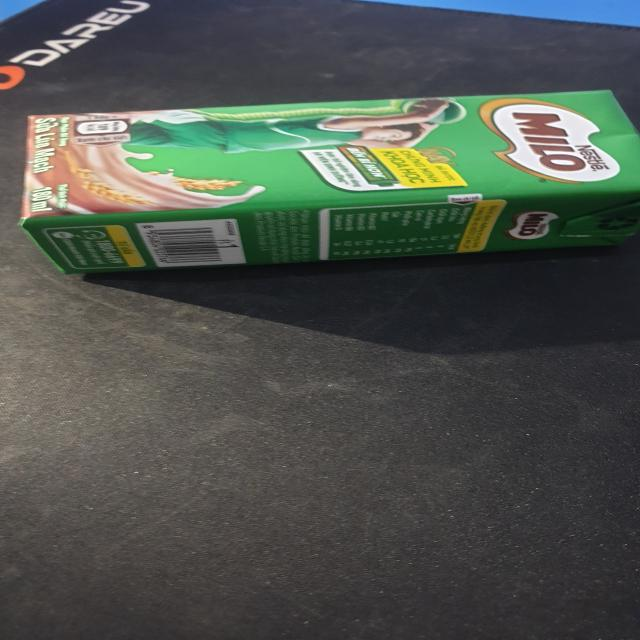Milo: (19, 92, 637, 280)
